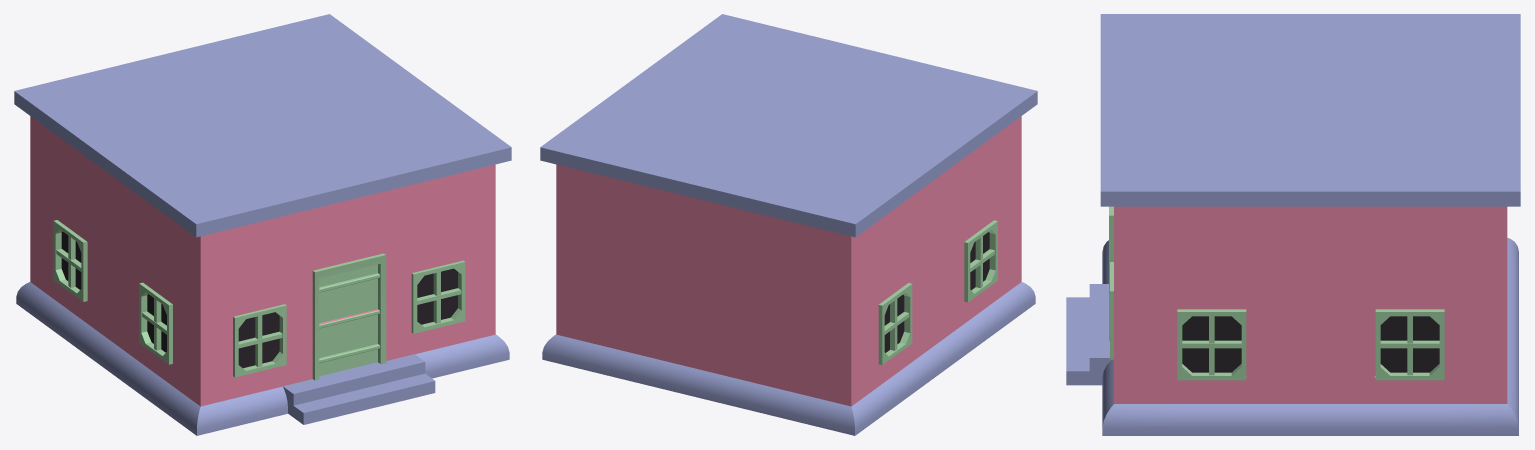
File: house coral pink.fbx
The picture shows the model from 3 angles, left to right: view 1: azimuth 30°, elevation 25°; view 2: azimuth 150°, elevation 25°; view 3: azimuth 270°, elevation 25°; orthographic projection. The views are drawn at different scales.
Visible parts, largest first — view 1: Cube; view 2: Cube; view 3: Cube.
Part boxes in pixels (left/top/right/bottom): Cube: left=14, top=14, right=511, bottom=435; Cube: left=540, top=14, right=1037, bottom=435; Cube: left=1066, top=14, right=1520, bottom=435.
Size of the model in its own units: 9.21 by 5.93 by 9.96.
